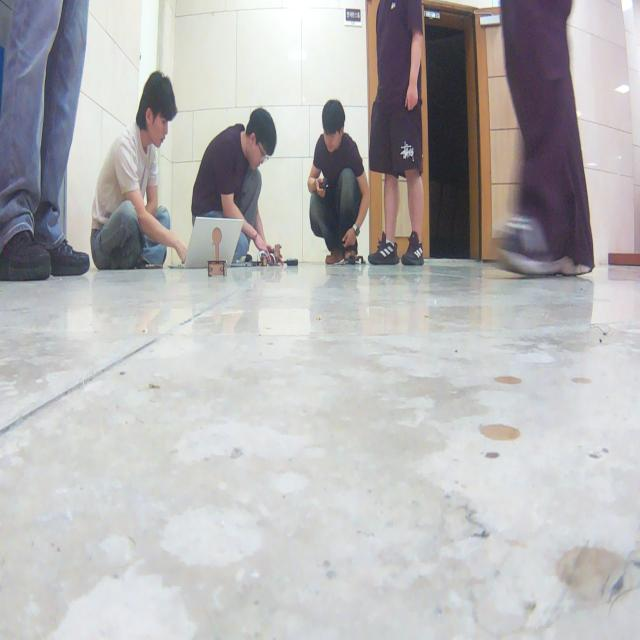target: (208, 227, 227, 277)
